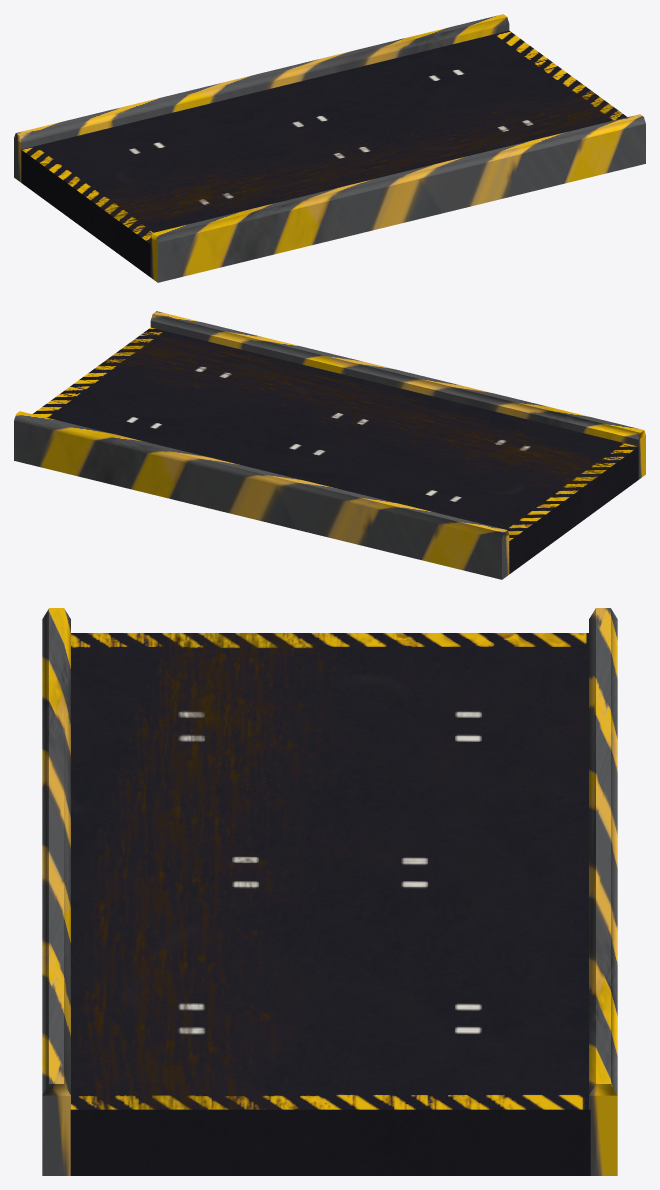
Rendered from Platform2.fbx.
The picture shows the model from 3 angles, top to bottom: view 1: azimuth 30°, elevation 25°; view 2: azimuth 150°, elevation 25°; view 3: azimuth 270°, elevation 25°; orthographic projection. The views are drawn at different scales.
Visible parts, largest first — view 1: Platform2; view 2: Platform2; view 3: Platform2.
Part boxes in pixels (x1,y1,x2,y2): Platform2: [14, 14, 645, 282]; Platform2: [14, 311, 645, 579]; Platform2: [42, 608, 617, 1175].
Bounding box in the file's own units: 400 × 35.81 × 204.
